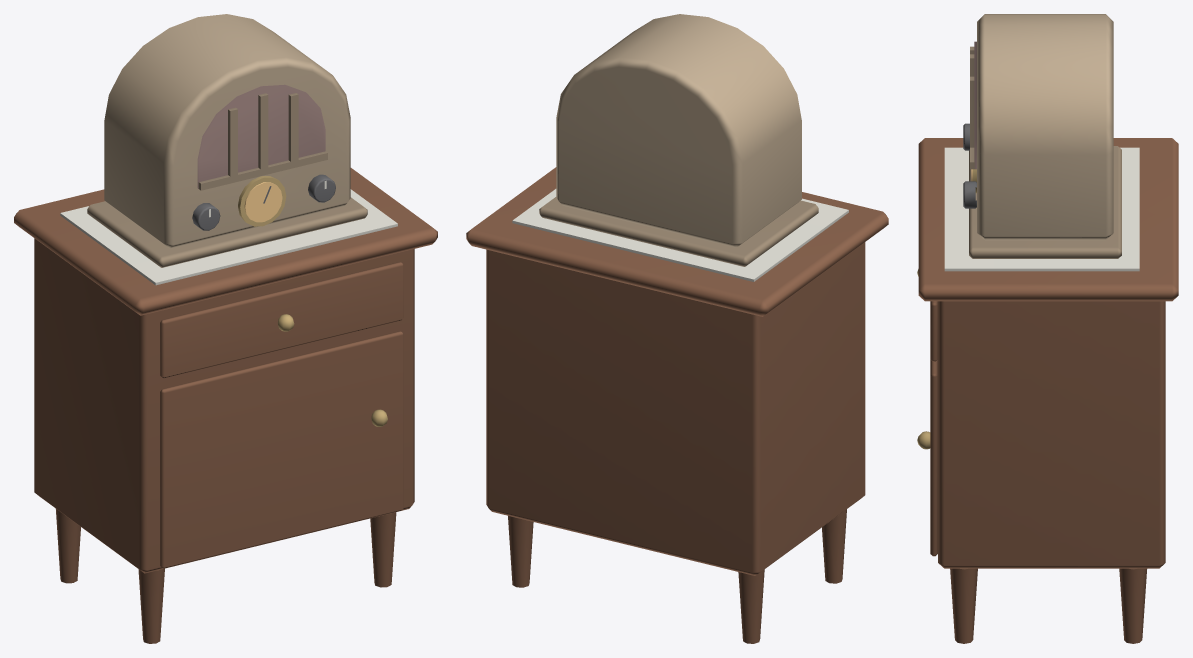
File: radio.glb
The picture shows the model from 3 angles, left to right: view 1: azimuth 30°, elevation 25°; view 2: azimuth 150°, elevation 25°; view 3: azimuth 270°, elevation 25°; orthographic projection. The views are drawn at different scales.
Parts seen in each view (by area): view 1: house_radio; view 2: house_radio; view 3: house_radio.
Part boxes in pixels (left/top/right/bottom): house_radio: left=14, top=14, right=437, bottom=643; house_radio: left=466, top=14, right=888, bottom=643; house_radio: left=917, top=14, right=1178, bottom=643.
Size of the model in its own units: 0.55 by 0.944 by 0.402.
